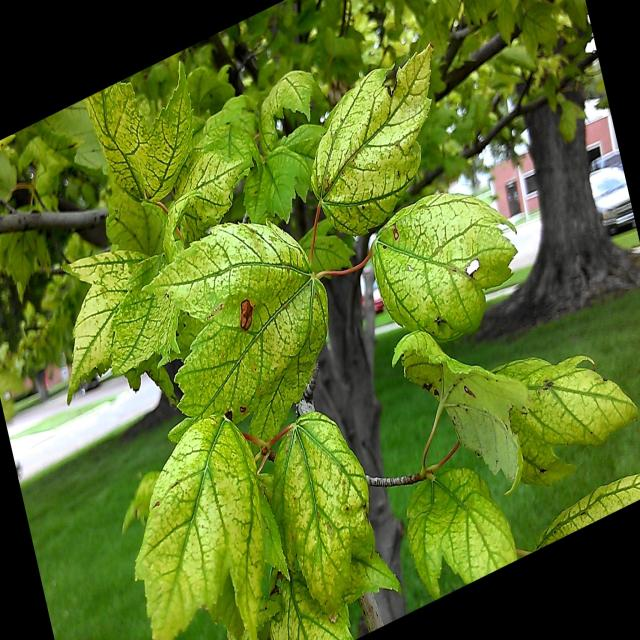Chlorosis: (32, 109, 637, 612)
